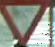Give way: (0, 0, 47, 46)
